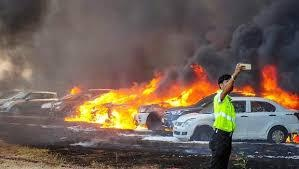fire: (62, 63, 220, 129), (232, 62, 299, 109)
